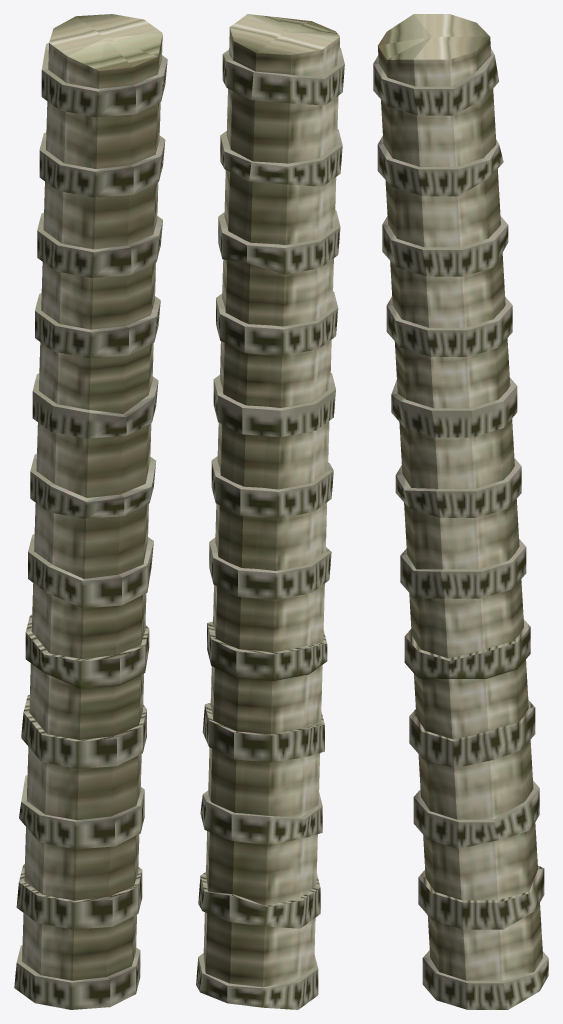
File: Pisa.glb
3 renders of one model, left to right at view 1: azimuth 30°, elevation 25°; view 2: azimuth 150°, elevation 25°; view 3: azimuth 270°, elevation 25°, orthographic. The views are drawn at different scales.
Parts seen in each view (by area): view 1: Pisa; view 2: Pisa; view 3: Pisa.
Part boxes in pixels (<box>): Pisa: <box>14,14,167,1009</box>; Pisa: <box>196,14,344,1009</box>; Pisa: <box>373,14,548,1009</box>.
Bounding box in the file's own units: 172 × 1505 × 252.
1 material, 1 textured.
